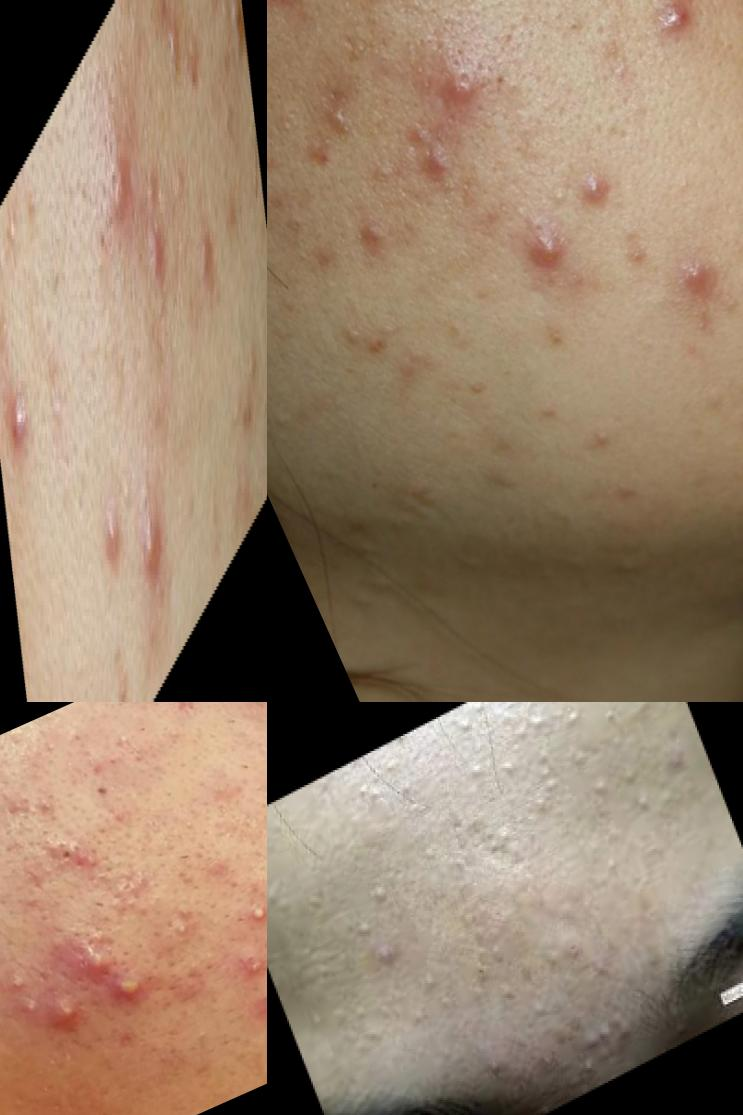blackhead: (47, 822, 117, 890), (545, 918, 602, 990), (105, 869, 170, 919), (217, 76, 243, 188), (456, 940, 508, 996), (179, 1022, 223, 1064)
cystic: (65, 928, 129, 989)
papular: (661, 219, 743, 331), (401, 122, 486, 217), (566, 148, 641, 217)
purulent: (90, 451, 134, 634), (137, 453, 180, 617), (642, 1, 736, 73), (518, 215, 590, 306), (5, 328, 37, 492), (103, 132, 140, 255), (114, 961, 171, 1024), (170, 909, 209, 951), (49, 995, 85, 1039), (13, 986, 50, 1025), (1, 965, 36, 1002), (240, 892, 268, 936), (163, 703, 218, 724)
whitehead: (557, 981, 662, 1087), (320, 972, 410, 1083), (310, 79, 382, 165), (609, 751, 671, 834), (410, 958, 465, 1037), (159, 1, 193, 117), (30, 712, 98, 768), (525, 744, 568, 803), (454, 744, 498, 797), (360, 865, 402, 920), (507, 703, 556, 750), (345, 908, 380, 961), (230, 942, 268, 990), (106, 723, 141, 757), (582, 766, 615, 802), (160, 713, 194, 746), (493, 748, 521, 782), (559, 703, 590, 731), (242, 703, 268, 714)
